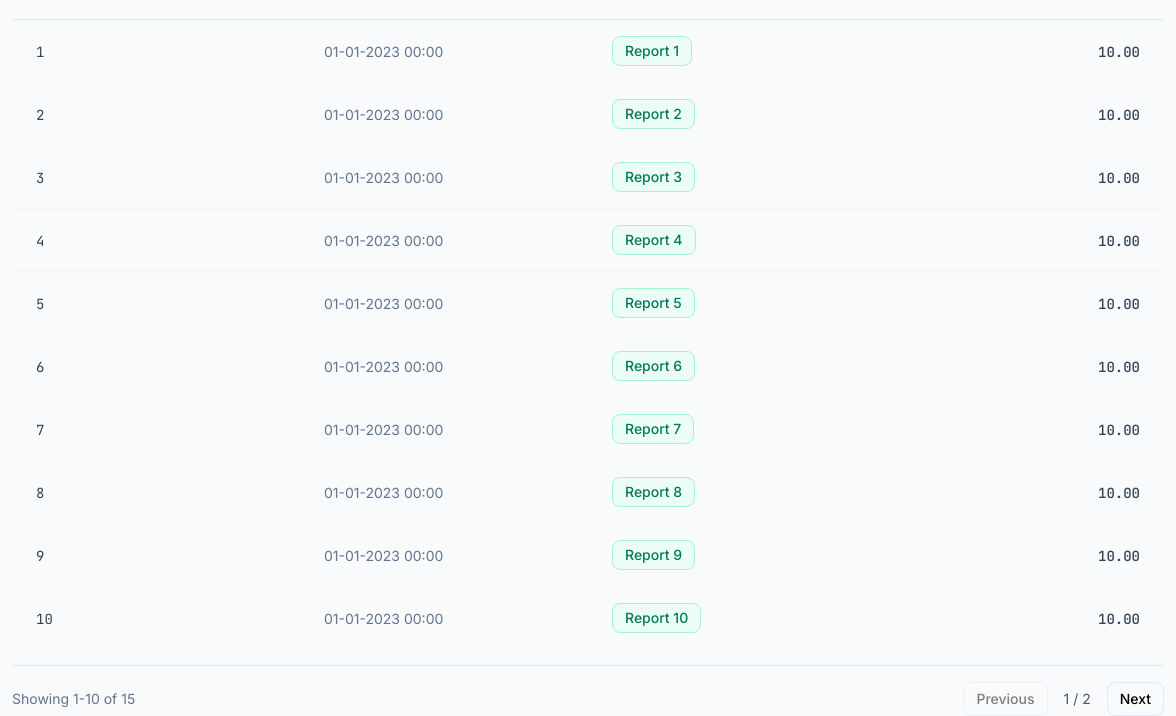
UsageTable › should handle pagination interaction
(page scrolled)
Expected: the text "1 / 2" is shown, [1064,690,1091,707]
Click the button with test id "pagination-next": [1135, 699] box [1107,682,1164,715]
(page scrolled)
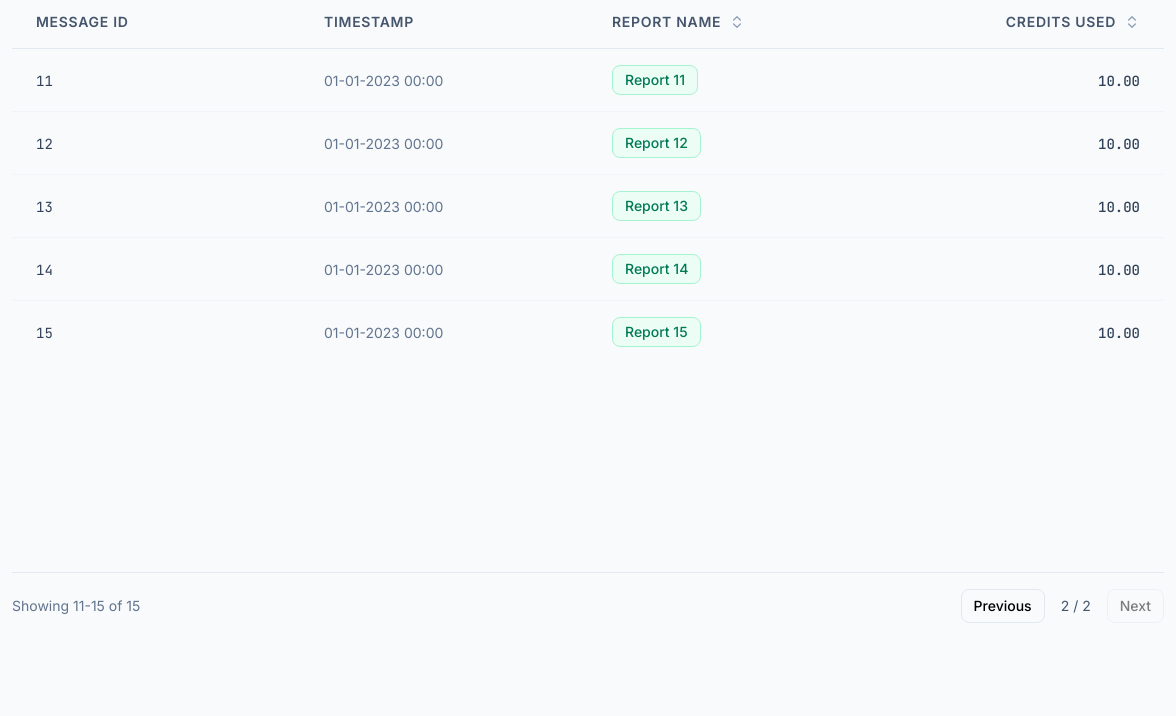
Expected: the text "Report 11" is shown, [612,65,698,95]
Expected: the text with test id "pagination-info" reads "2 / 2", [1061,597,1091,614]
